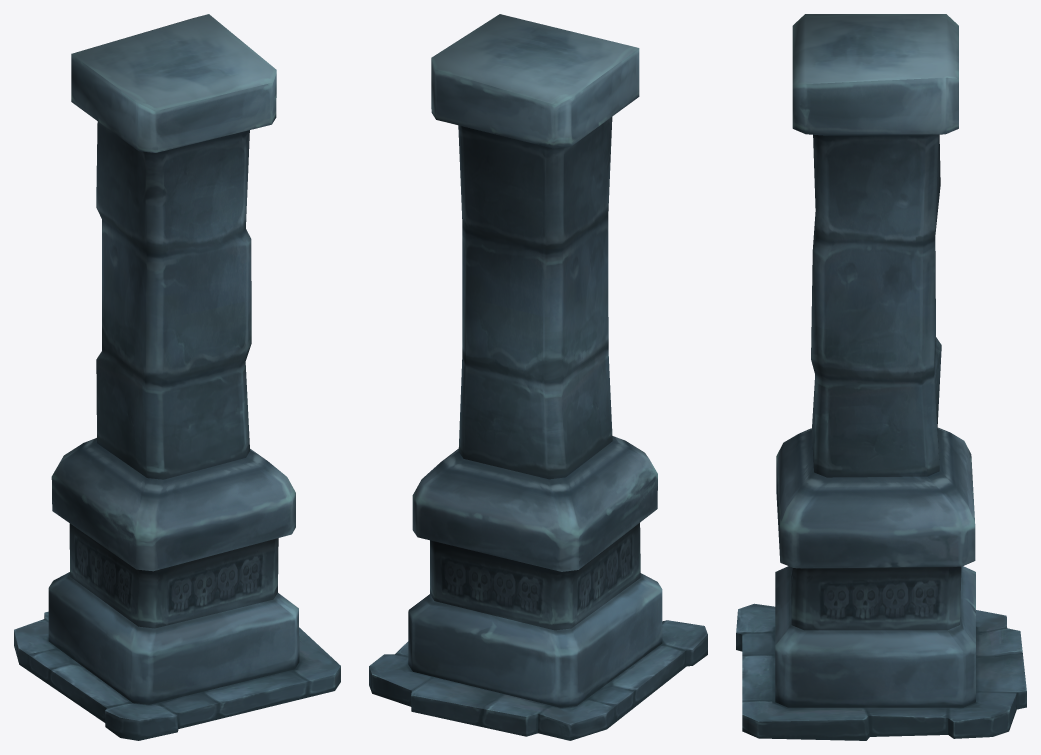
Rendered from pillar.glb.
The picture shows the model from 3 angles, left to right: view 1: azimuth 30°, elevation 25°; view 2: azimuth 150°, elevation 25°; view 3: azimuth 270°, elevation 25°; orthographic projection. The views are drawn at different scales.
Visible parts, largest first — view 1: dungoen_pillar; view 2: dungoen_pillar; view 3: dungoen_pillar.
Boxes of the visible parts, bbox=[...] form: dungoen_pillar: bbox=[14, 14, 340, 740]; dungoen_pillar: bbox=[369, 14, 707, 740]; dungoen_pillar: bbox=[736, 14, 1026, 740].
Size of the model in its own units: 0.8084 by 2.07 by 0.8535.
Materials: 1 (1 with a texture image).
